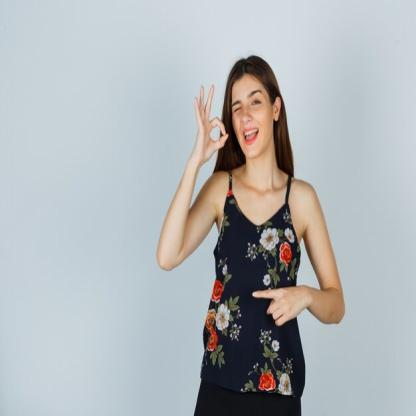ok: (192, 78, 229, 161)
